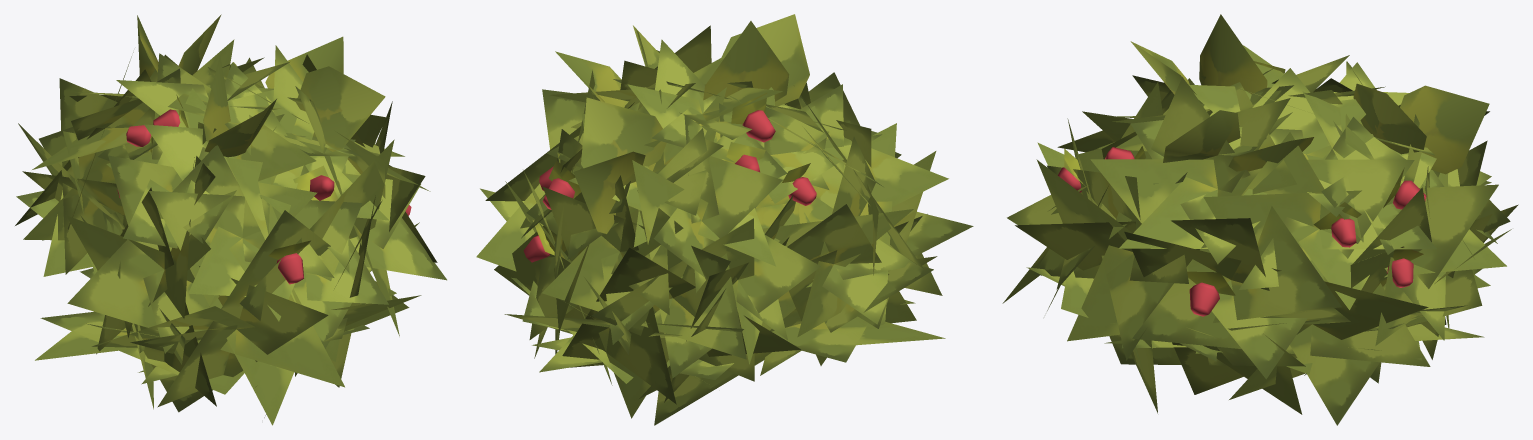
The model's file is Raspberry_Bush_3b.fbx.
3 views of the same model, side by side, from view 1: azimuth 30°, elevation 25°; view 2: azimuth 150°, elevation 25°; view 3: azimuth 270°, elevation 25° (orthographic). The views are drawn at different scales.
Parts seen in each view (by area): view 1: Raspberry_Bush_3b; view 2: Raspberry_Bush_3b; view 3: Raspberry_Bush_3b.
Boxes of the visible parts, <box> form: Raspberry_Bush_3b: <box>15,14,446,425</box>; Raspberry_Bush_3b: <box>476,14,973,425</box>; Raspberry_Bush_3b: <box>1002,14,1518,425</box>.
Size of the model in its own units: 136 by 111 by 145.
Materials: 1 (1 with a texture image).
